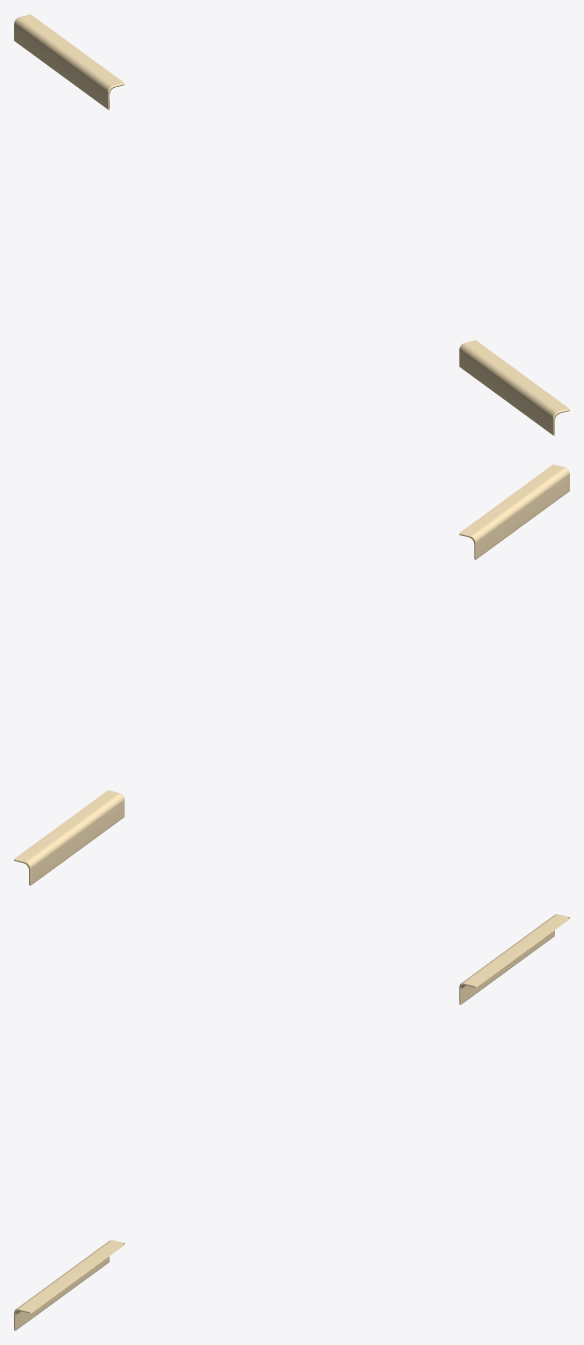
The picture shows the model from 3 angles, top to bottom: view 1: azimuth 30°, elevation 25°; view 2: azimuth 150°, elevation 25°; view 3: azimuth 330°, elevation 25°; orthographic projection.
Parts seen in each view (by area): view 1: panel_door_handle.002; view 2: panel_door_handle.002; view 3: panel_door_handle.002.
Boxes of the visible parts, x1,y1,x2,y2 form: panel_door_handle.002: [14, 14, 569, 435]; panel_door_handle.002: [14, 464, 569, 885]; panel_door_handle.002: [14, 914, 569, 1330].
Size of the model in its own units: 0.0194 by 0.0255 by 1.08.
